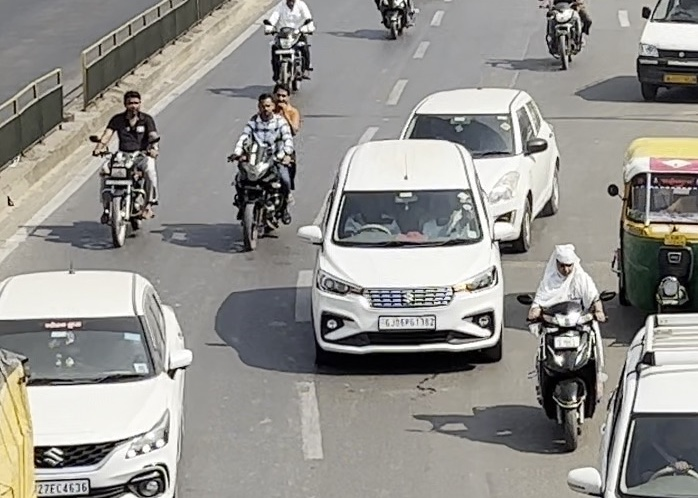BikeWithRider: (511, 237, 620, 455), (221, 80, 306, 255), (83, 88, 169, 251), (256, 0, 321, 105)
NoHelmet: (546, 239, 583, 281), (269, 81, 292, 113), (252, 90, 277, 119), (121, 87, 144, 114)
